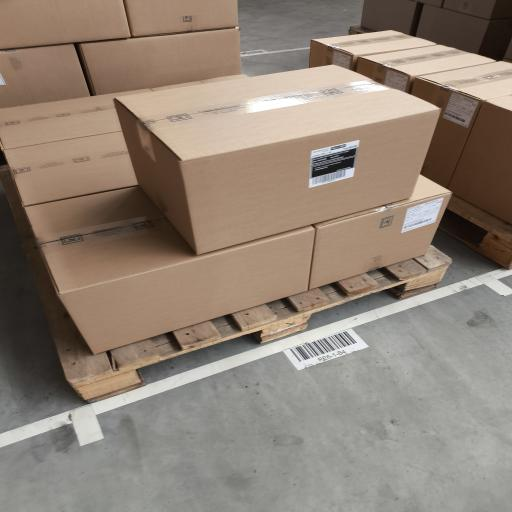pallet: (22, 237, 451, 402), (440, 196, 511, 269), (349, 26, 375, 35)
